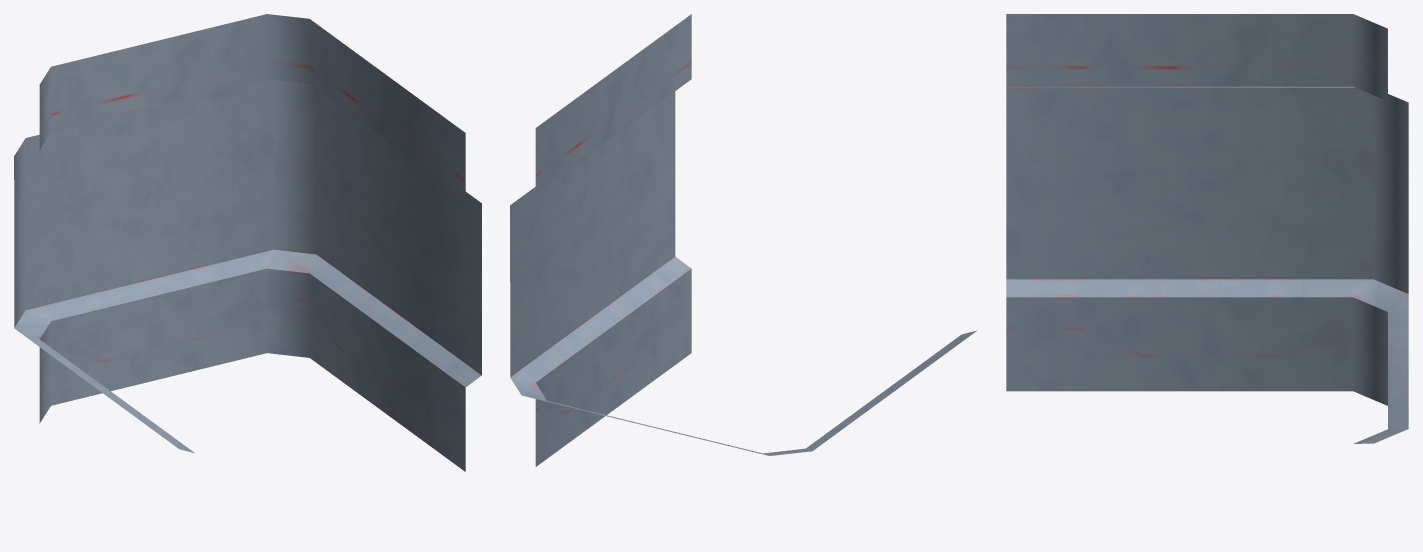
The model's file is Wall_Hallway_End_2.glb.
3 renders of one model, left to right at view 1: azimuth 30°, elevation 25°; view 2: azimuth 150°, elevation 25°; view 3: azimuth 270°, elevation 25°, orthographic. The views are drawn at different scales.
Visible parts, largest first — view 1: Wall_Hallway_End_2; view 2: Wall_Hallway_End_2; view 3: Wall_Hallway_End_2.
Part boxes in pixels (left/top/right/bottom): Wall_Hallway_End_2: left=14, top=14, right=481, bottom=471; Wall_Hallway_End_2: left=510, top=14, right=976, bottom=466; Wall_Hallway_End_2: left=1006, top=14, right=1408, bottom=443.
Size of the model in its own units: 5.6 by 6 by 5.8.
1 material, 1 textured.
